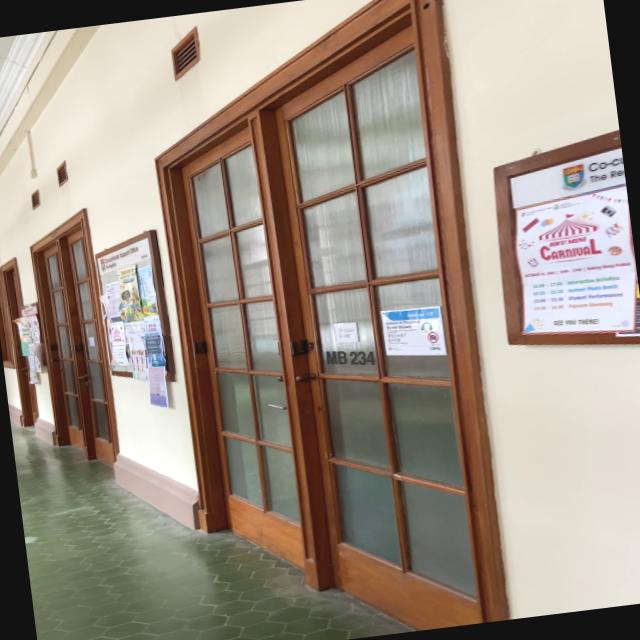room234Window: (320, 341, 378, 374)
